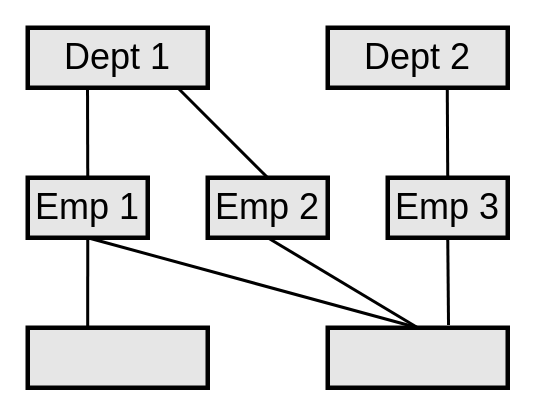
This 536x416 diagram has some shape labels left out. The box of each missing label's shape, as (x1, y1, x2, y2) in pixels:
Project 1: (25, 325, 209, 389)
Project 2: (325, 325, 509, 389)
